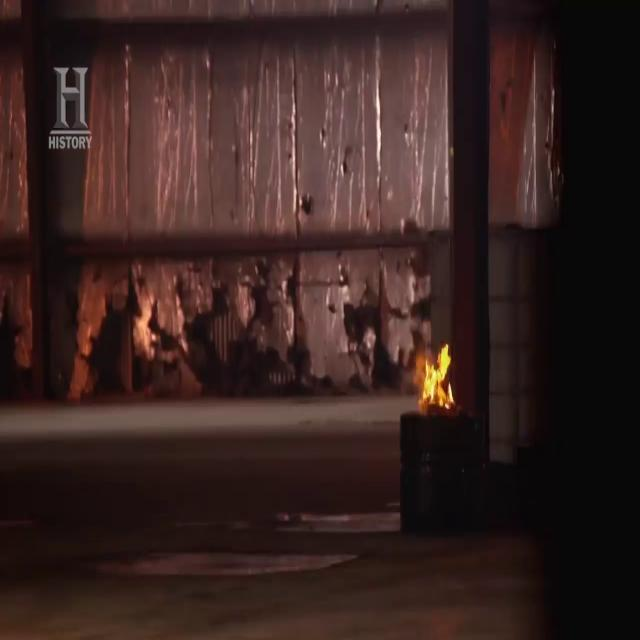Fire: (410, 336, 460, 411)
